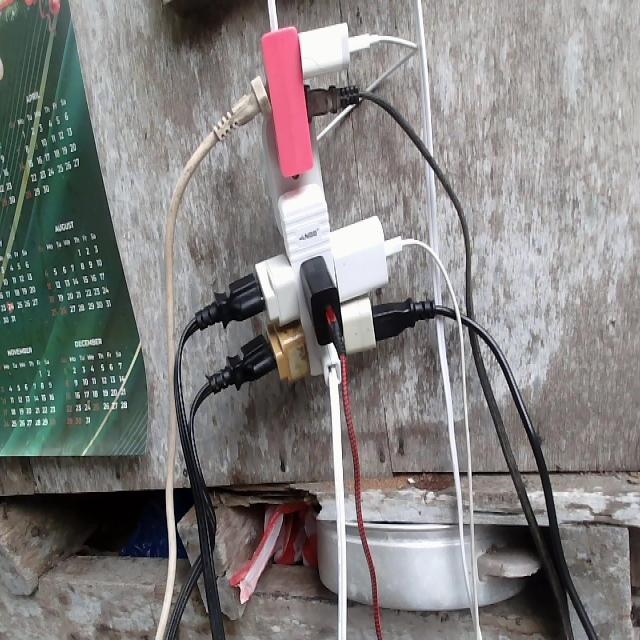-: (193, 17, 439, 395)
